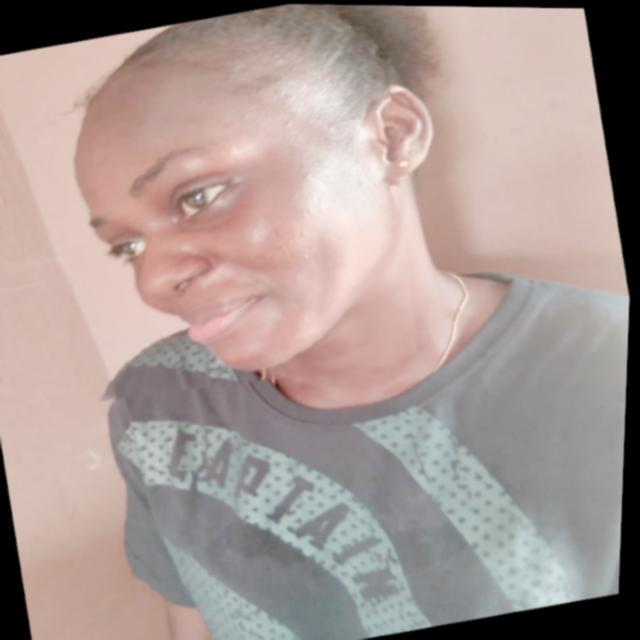happy: (26, 0, 444, 418)
